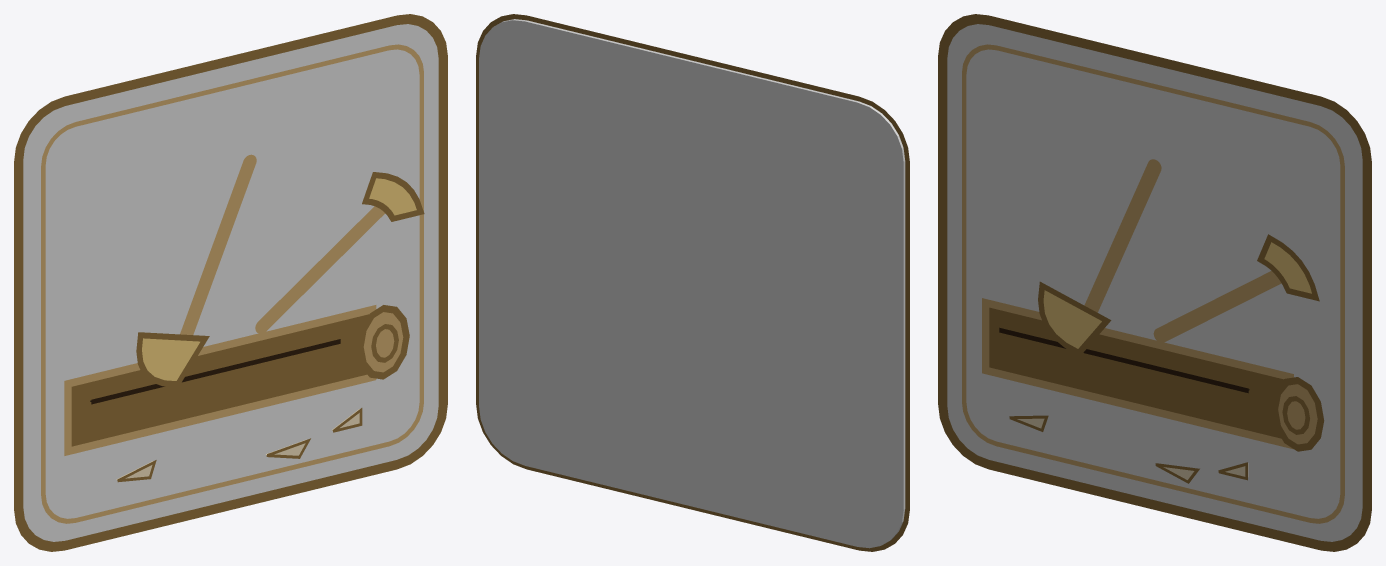
File: obj-topor-teslo.glb
3 views of the same model, side by side, from view 1: azimuth 30°, elevation 25°; view 2: azimuth 150°, elevation 25°; view 3: azimuth 330°, elevation 25° (orthographic).
Visible parts, largest first — view 1: obj-topor-teslo; view 2: obj-topor-teslo; view 3: obj-topor-teslo.
Boxes of the visible parts, x1,y1,x2,y2 form: obj-topor-teslo: [14, 14, 447, 551]; obj-topor-teslo: [476, 14, 909, 551]; obj-topor-teslo: [938, 14, 1371, 551].
Bounding box in the file's own units: 0.3917 × 0.3917 × 0.0326.
